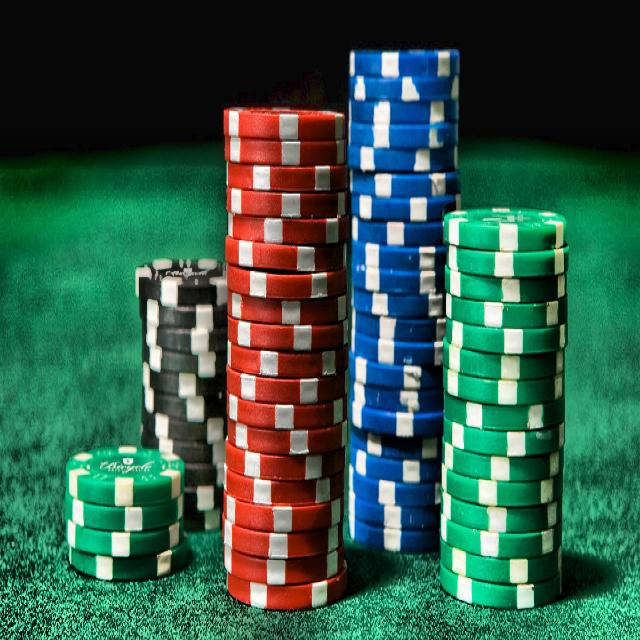Chip: (215, 87, 355, 619), (334, 34, 466, 568), (434, 183, 574, 626), (132, 244, 241, 544), (58, 444, 194, 594)
